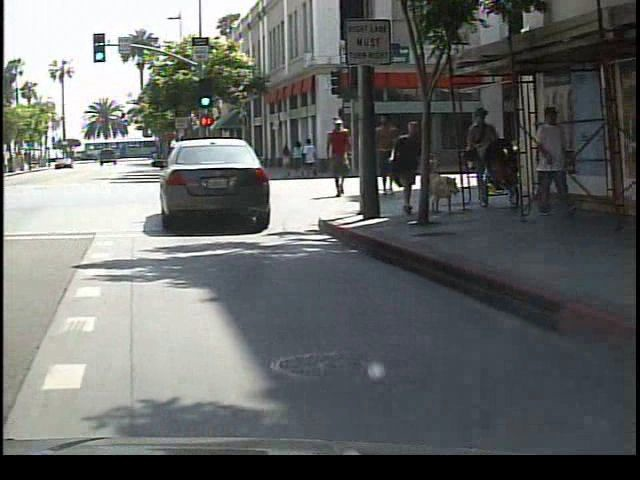person: (370, 108, 404, 202), (326, 114, 362, 201)
